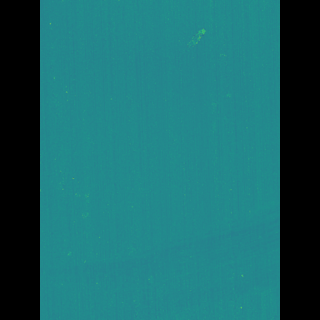Loch: (91, 204, 251, 320)
